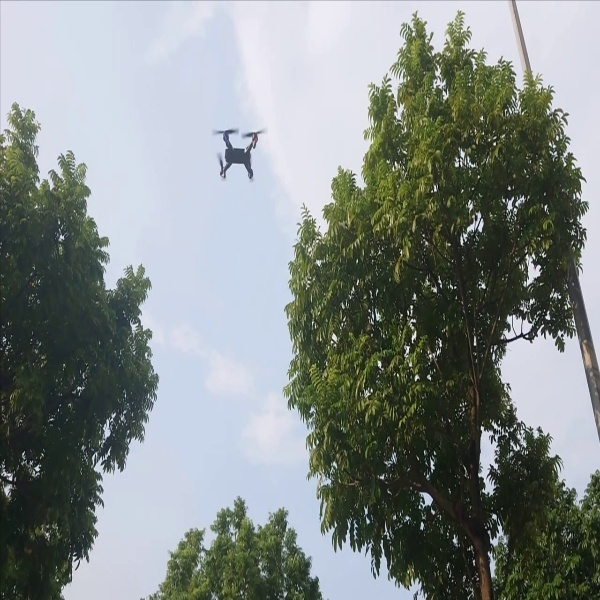drone: (210, 123, 268, 185)
